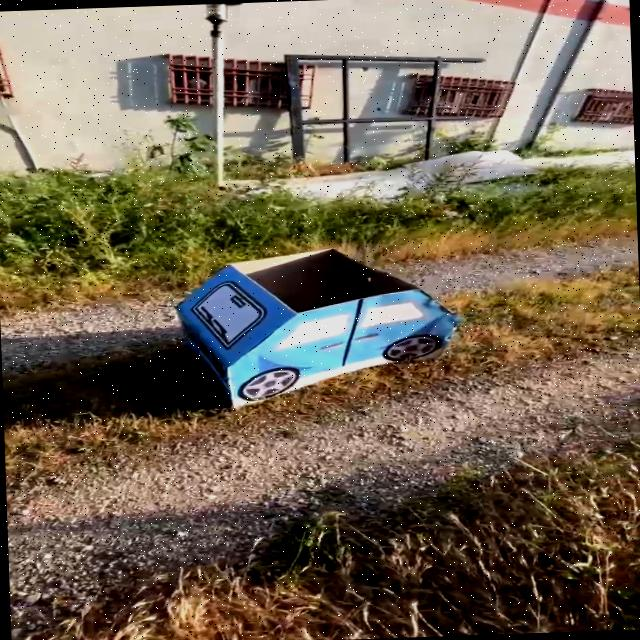blue_car: (109, 227, 515, 423)
